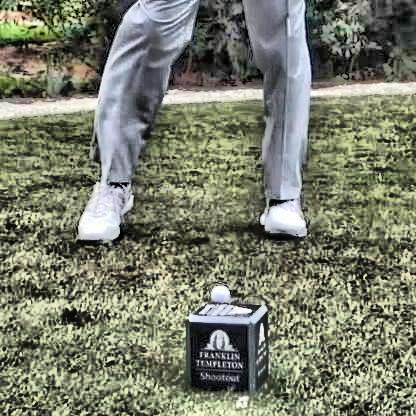golfball: (207, 280, 229, 301)
